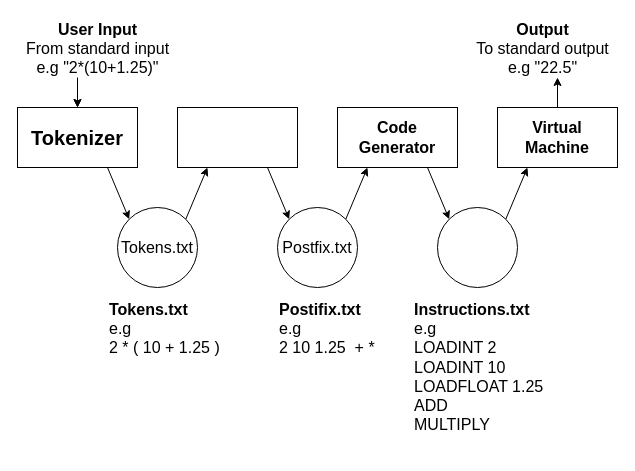
This 635x471 diagram has some shape labels left out. Here are the shapes that lost their labels. From the top down, the centre of each, then its label:
At (x=237, y=137): "Infix-to-Postfix".
At (x=477, y=247): "Instructions.txt".
